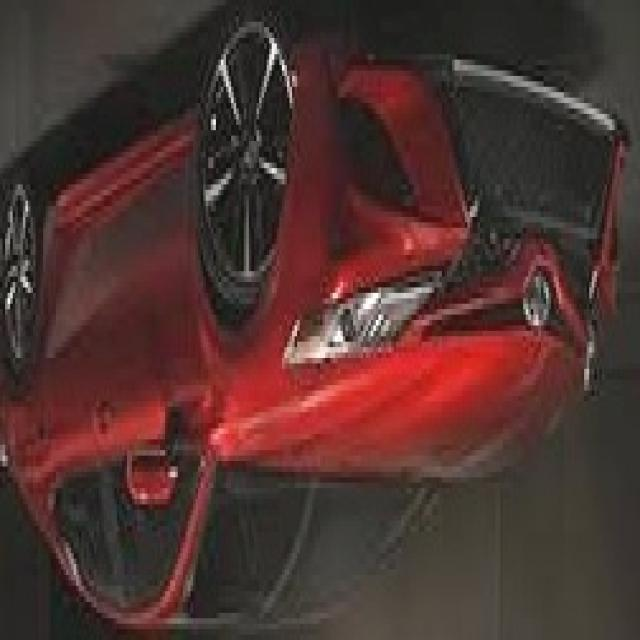red: (0, 64, 629, 631)
